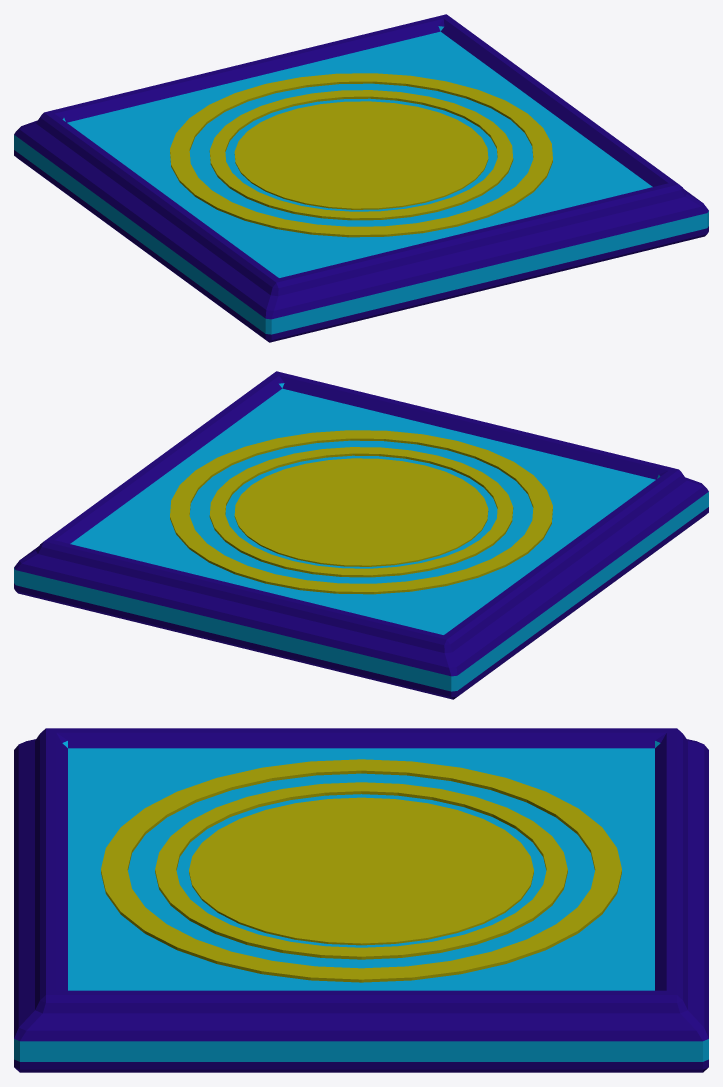
File: MineBase.fbx
The picture shows the model from 3 angles, top to bottom: view 1: azimuth 30°, elevation 25°; view 2: azimuth 150°, elevation 25°; view 3: azimuth 270°, elevation 25°; orthographic projection. The views are drawn at different scales.
Visible parts, largest first — view 1: Base; view 2: Base; view 3: Base.
Boxes of the visible parts, x1=… form: Base: x1=14, y1=14, x2=708, y2=342; Base: x1=14, y1=371, x2=708, y2=699; Base: x1=14, y1=728, x2=708, y2=1072.
Bounding box in the file's own units: 200 × 21.14 × 200.
